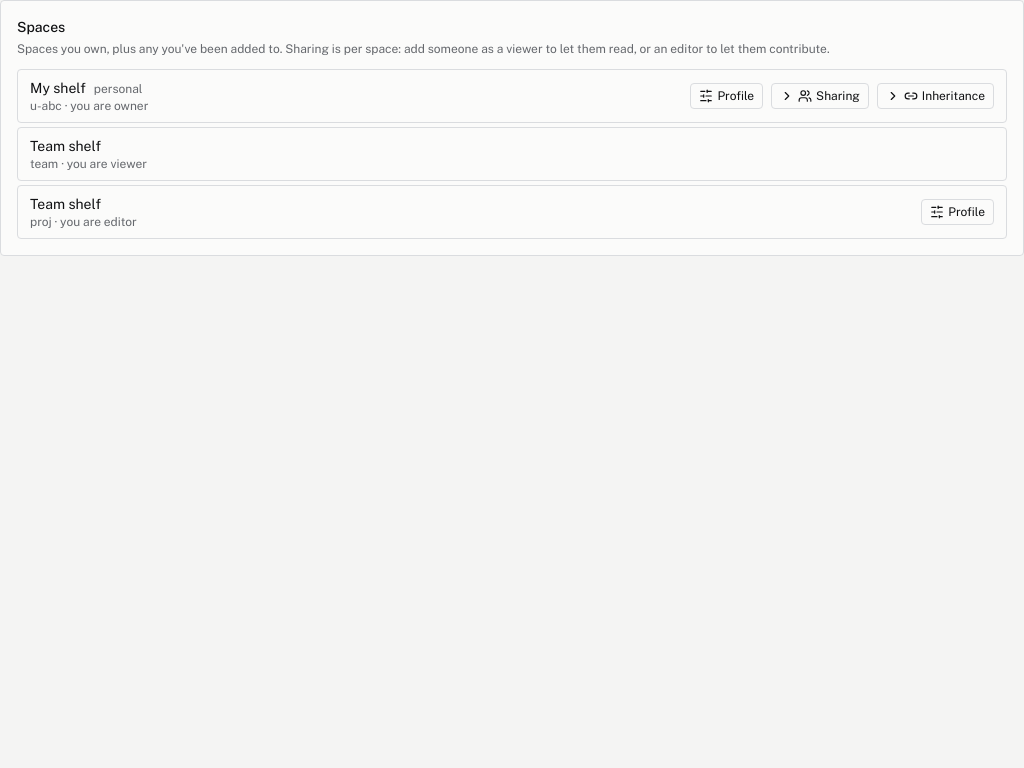
Test case: renaming, in the profile dialog › shows an editor who doesn't own the space the name, read-only
This screenshot has width=1024, height=768.
Step 1. Click the button "Profile" in the row of "proj" → (958, 212), box [921,199,994,225]
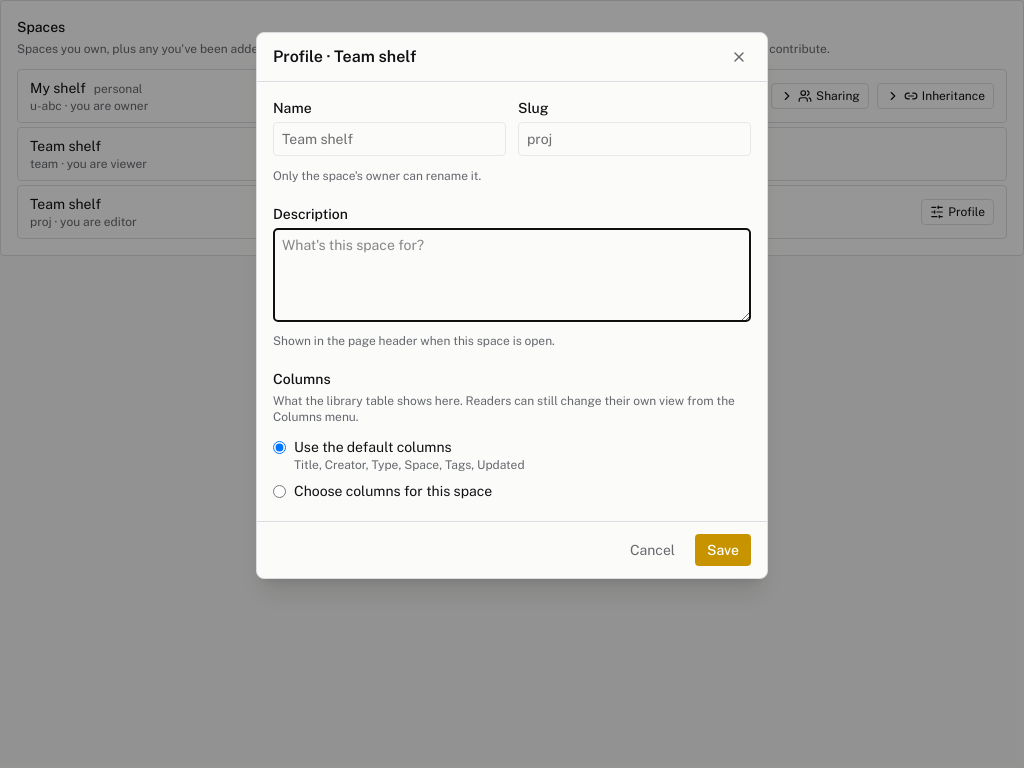
Check: the text "Only the space's owner can rename it." is shown, box [273,169,481,183]
